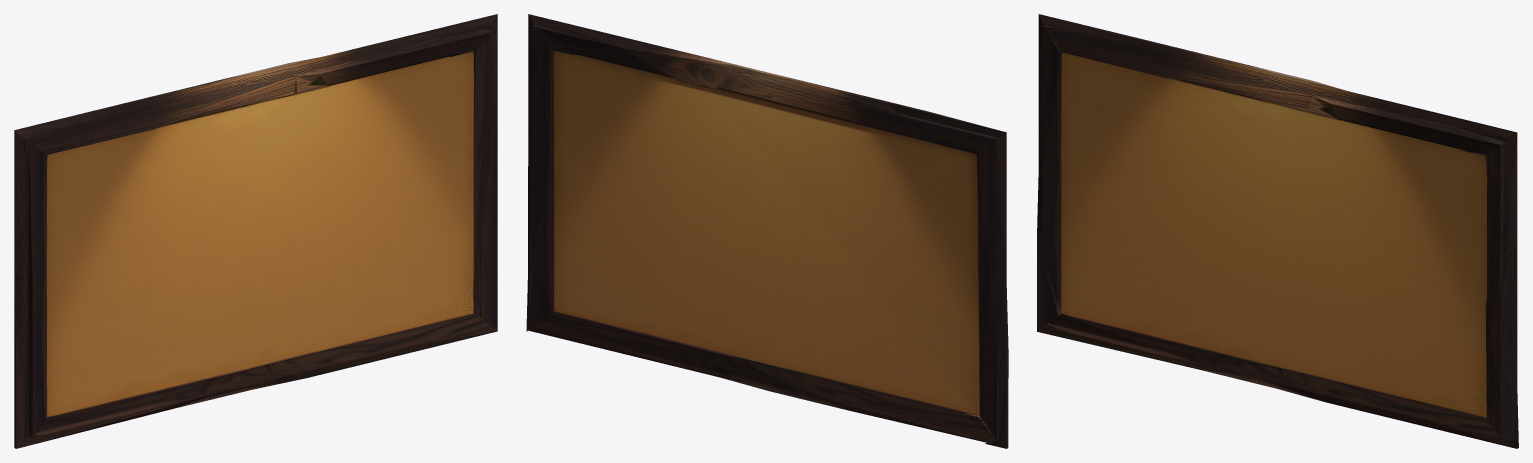
File: PR_WallNoticeBoard.fbx
3 views of the same model, side by side, from view 1: azimuth 30°, elevation 25°; view 2: azimuth 150°, elevation 25°; view 3: azimuth 330°, elevation 25° (orthographic).
Parts seen in each view (by area): view 1: Mesh_0; view 2: Mesh_0; view 3: Mesh_0.
Part boxes in pixels (<box>): Mesh_0: <box>14,14,497,448</box>; Mesh_0: <box>526,14,1008,448</box>; Mesh_0: <box>1037,14,1518,448</box>.
Bounding box in the file's own units: 190 × 120 × 6.1.
Materials: 1 (1 with a texture image).
